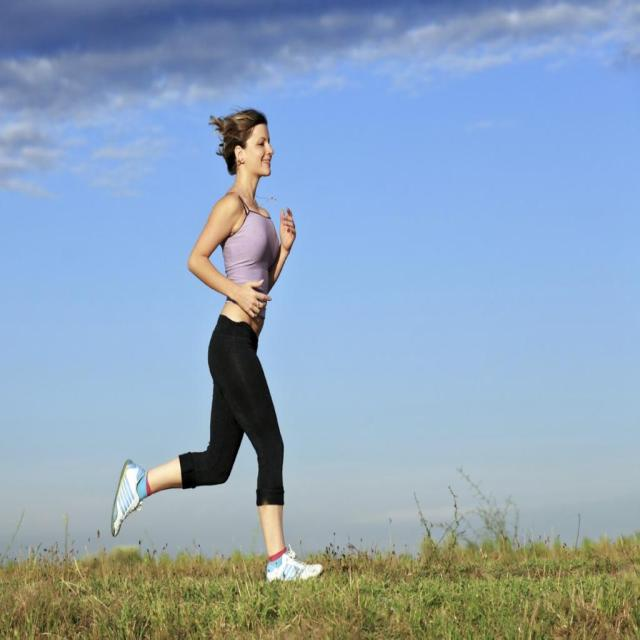Face: (243, 122, 280, 185)
